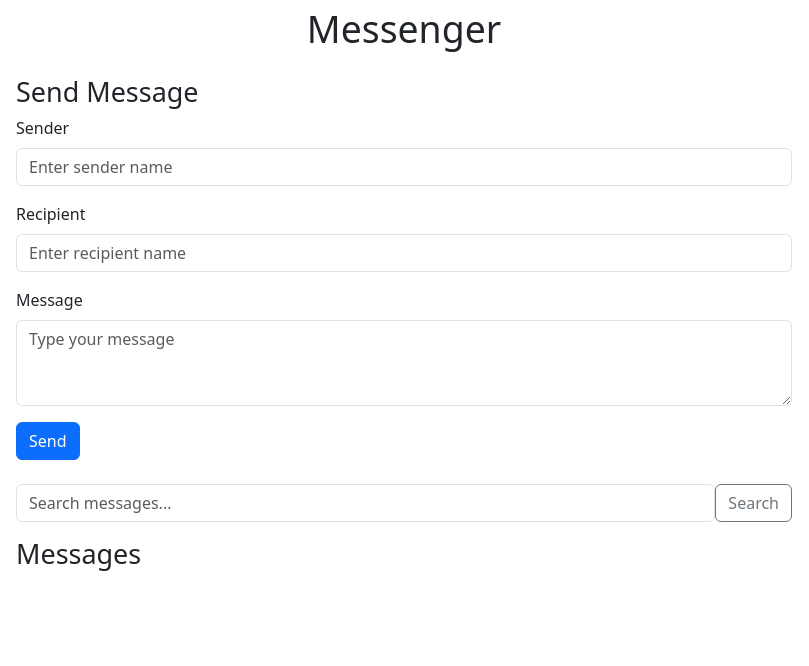
Test: App Component › handles search functionality
In the field with placeholder "Search messages...": (366, 503) [16, 484, 715, 522], type "test"
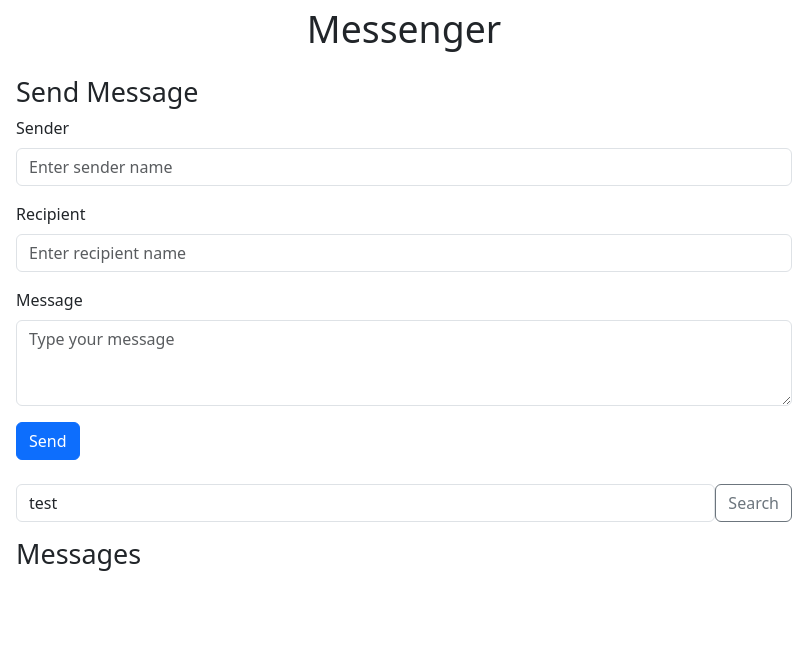
Click the button "Search": (754, 503) [715, 484, 792, 522]
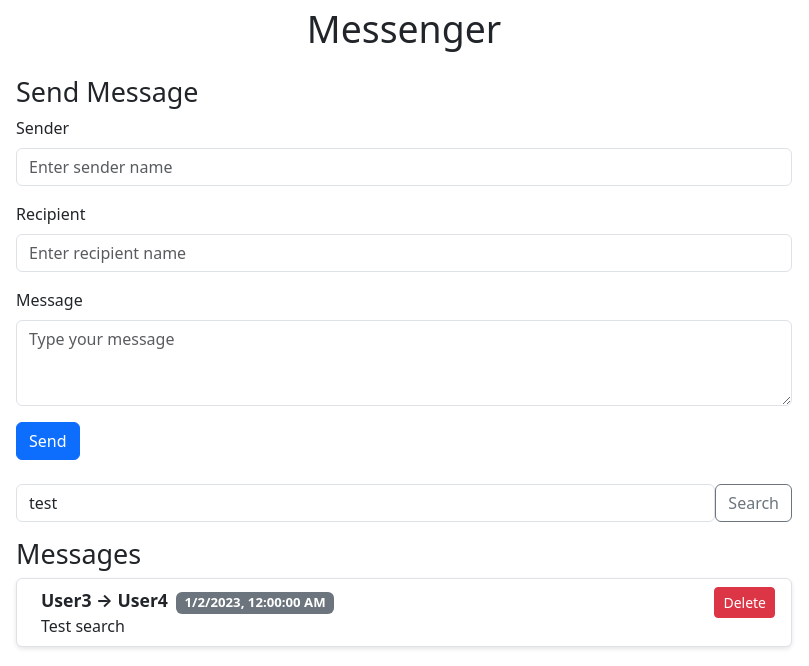
Now the text "User3 → User4" is shown, box [41, 588, 334, 614]
